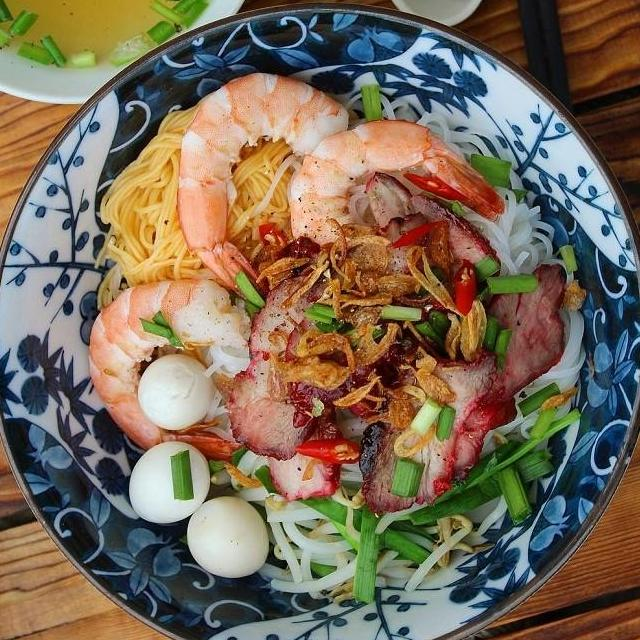banh hu tieu: (436, 103, 576, 286)
hu tieu mi: (0, 40, 640, 640)
mi: (92, 97, 310, 314)
thit heo: (438, 251, 576, 481), (220, 253, 350, 467), (351, 339, 506, 518), (256, 358, 352, 508)
tom: (168, 63, 360, 313), (278, 112, 510, 294), (81, 268, 258, 470)
trung: (120, 435, 214, 529), (182, 491, 274, 582), (134, 350, 218, 437)
